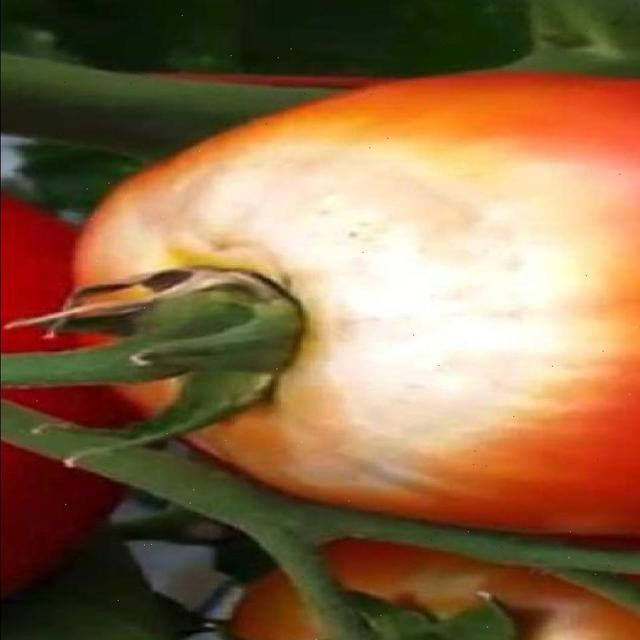Sunscald Fruit: (64, 90, 421, 330)
